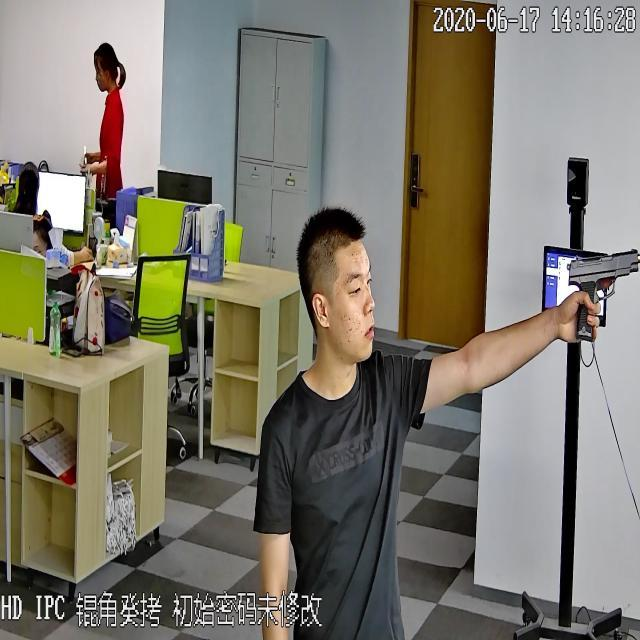gun-knife-thesis - v11 Yolov5 augmented: (564, 244, 638, 352)
